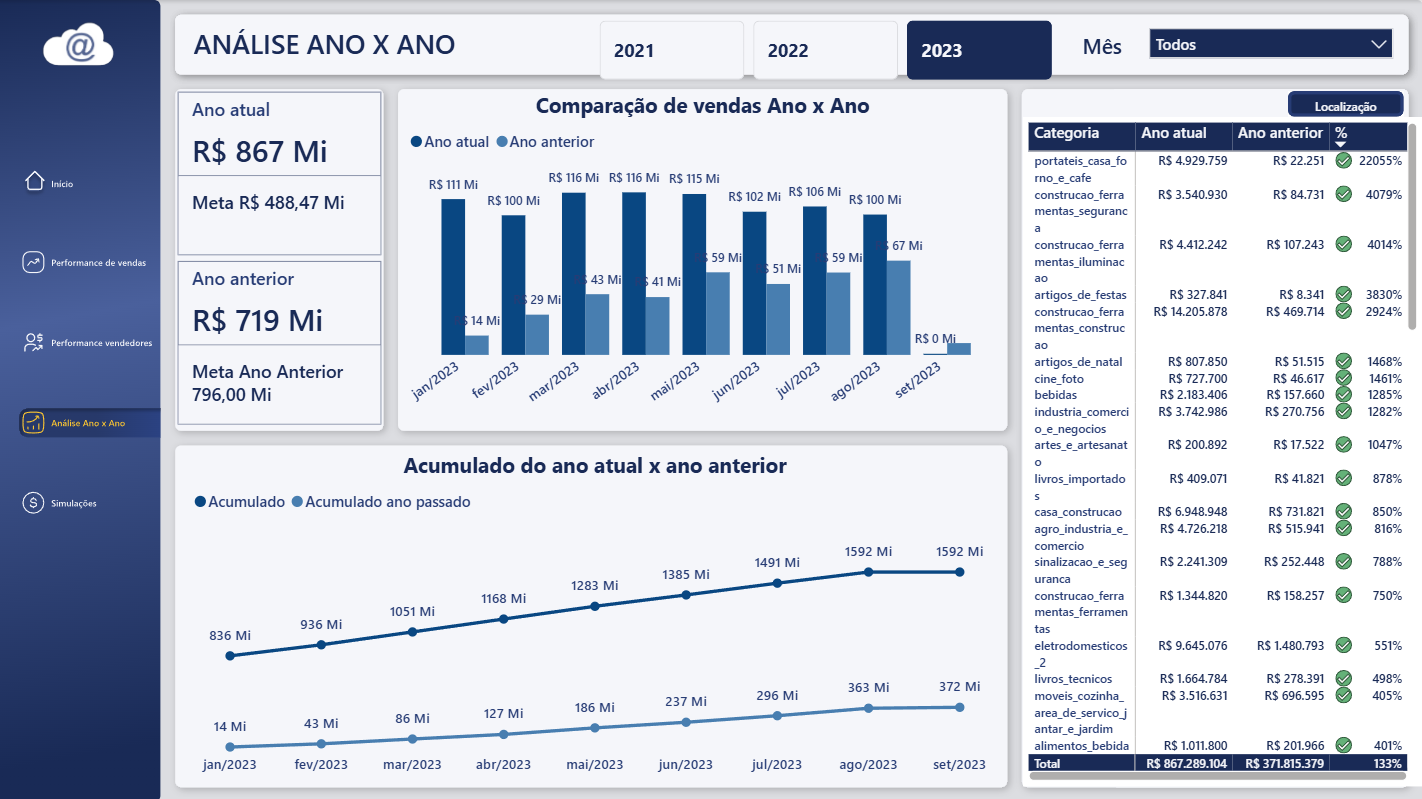

The dashboard page shown, as its layout file describes it:
{"tool":"powerbi","page":{"name":"Ano x Ano","canvas":[1280,720],"ordinal":3},"visuals":[{"type":"advancedSlicerVisual","fields":{"Values":["dCalendario.Data.Variation.Hierarquia de datas.Ano"]},"box":[536.4,13.8,416.5,63.9],"z":0},{"type":"slicer","fields":{"Values":["dCalendario.Nome do Mês"]},"box":[1024,15,239,51],"z":1000},{"type":"textbox","box":[171.2,16.7,389,47.4],"z":2000},{"type":"textbox","box":[970,23,69,35],"z":3000},{"type":"cardVisual","fields":{"Data":["Medidas.Total vendido","Medidas.Total Vendido PREVIUSYEAR"]},"box":[157.1,77.2,193.3,310.5],"z":4000},{"type":"clusteredColumnChart","title":"Comparação de vendas Ano x Ano","fields":{"Category":["dCalendario.Mês/ano"],"Y":["Medidas.Total vendido","Medidas.Total Vendido do Ano Anterior"]},"box":[365.3,81.8,536.4,300.2],"z":5000},{"type":"lineChart","title":"Acumulado do ano atual x ano anterior","fields":{"Category":["dCalendario.Mês/ano"],"Y":["Medidas.Acumulado","Medidas.Acumulado ano passado"]},"box":[171,405.3,730.6,300.2],"z":6000},{"type":"pivotTable","title":"Matriz-Categoria","fields":{"Rows":["dProdutos.product_category_name"],"Values":["Medidas.Total vendido","Medidas.Total Vendido do Ano Anterior","Medidas.Variação ano a ano"]},"box":[921.1,105,359.1,600.6],"z":7000},{"type":"actionButton","title":"Botão-Local","box":[1159.2,81.5,103.8,23.1],"z":8000},{"type":"pageNavigator","box":[0,137.5,143.4,349.7],"z":10001}]}

Visuals, with their boxes on the page's 1280x720 design canvas (x1, y1, x2, y2). These are canvas units, not pixel positions in the 1422x799 screenshot, which may show the page scaled, cropped or inside an application window:
advancedSlicerVisual - dCalendario.Data.Variation.Hierarquia de datas.Ano: (536,14,953,78)
slicer - dCalendario.Nome do Mês: (1024,15,1263,66)
textbox: (171,17,560,64)
textbox: (970,23,1039,58)
cardVisual - Medidas.Total vendido x Medidas.Total Vendido PREVIUSYEAR: (157,77,350,388)
"Comparação de vendas Ano x Ano" clusteredColumnChart: (365,82,902,382)
"Acumulado do ano atual x ano anterior" lineChart: (171,405,902,706)
"Matriz-Categoria" pivotTable: (921,105,1280,706)
"Botão-Local" actionButton: (1159,82,1263,105)
pageNavigator: (0,138,143,487)
